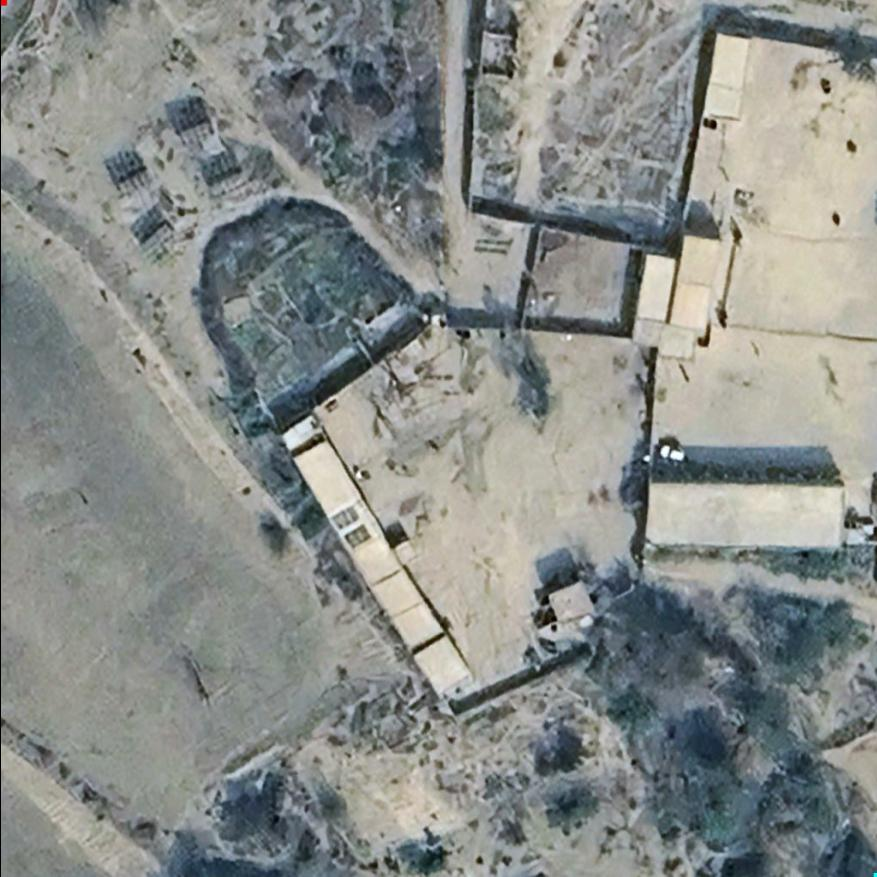Solarpanel: (173, 114, 218, 154), (206, 164, 257, 199), (113, 163, 152, 202), (140, 219, 177, 255), (327, 505, 362, 533), (340, 524, 373, 553)
